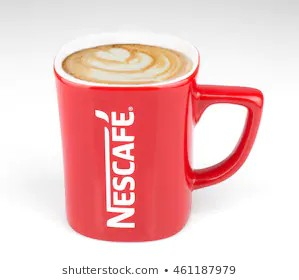nescafe-mug: (52, 28, 263, 243)
